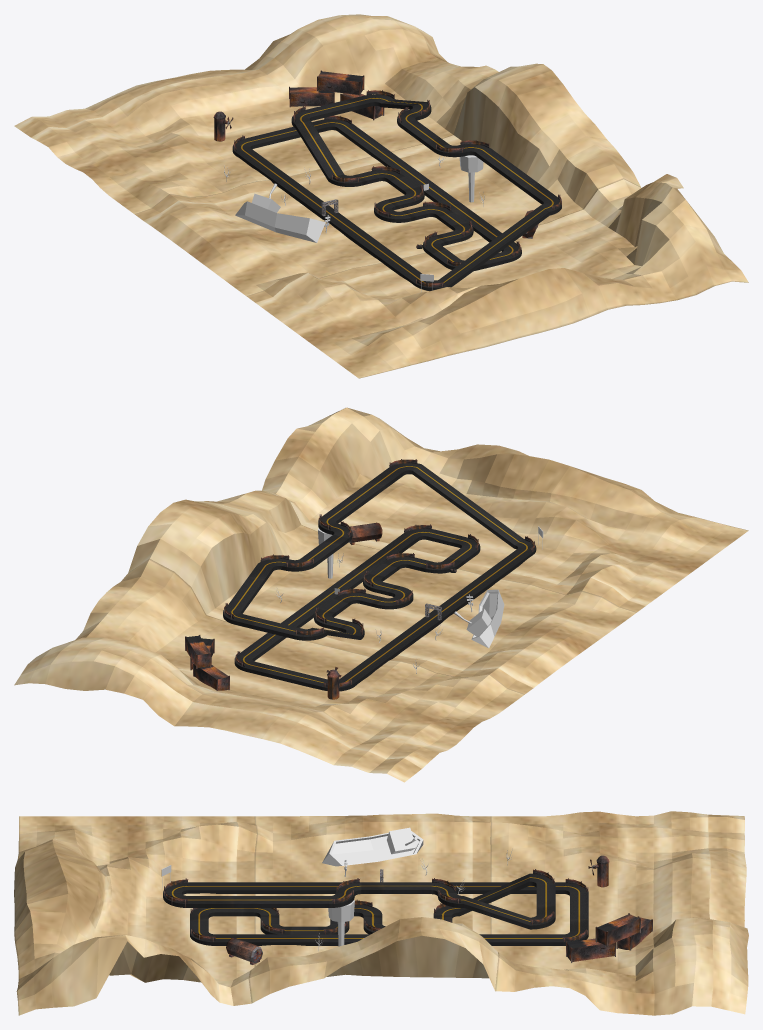
File: Racecar_Track (1).fbx
3 renders of one model, top to bottom at view 1: azimuth 30°, elevation 25°; view 2: azimuth 150°, elevation 25°; view 3: azimuth 270°, elevation 25°, orthographic. The views are drawn at different scales.
Visible parts, largest first — view 1: Terrain, RaceTrack.002, OldShip, Container.001, Container.002; view 2: Terrain, RaceTrack.002, OldShip, Container.002, Container.001; view 3: Terrain, RaceTrack.002, OldShip, Container.001, Container, GasStorage, WaterTank, Container.002, TallStructure.
Part boxes in pixels (x1,y1,x2,y2): Terrain: (14, 14, 748, 378); RaceTrack.002: (232, 94, 561, 291); OldShip: (235, 183, 325, 242); Container.001: (317, 70, 364, 95); Container.002: (289, 86, 334, 107); Terrain: (14, 407, 748, 782); RaceTrack.002: (223, 463, 536, 691); OldShip: (454, 589, 504, 648); Container.002: (193, 663, 229, 690); Container.001: (185, 635, 211, 668); Terrain: (14, 811, 748, 1015); RaceTrack.002: (163, 873, 588, 945); OldShip: (322, 827, 423, 866); Container.001: (595, 913, 640, 946); Container: (566, 938, 615, 962); GasStorage: (226, 938, 262, 964); WaterTank: (328, 900, 354, 946); Container.002: (616, 916, 652, 950); TallStructure: (596, 855, 609, 887).
Size of the model in its own units: 7969 by 1441 by 12176.
